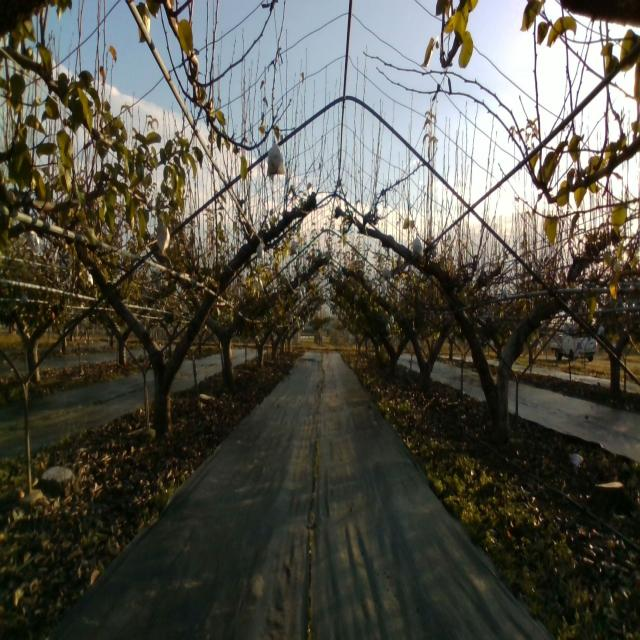pearbags: (267, 136, 285, 176), (156, 227, 170, 253), (411, 233, 424, 258)
